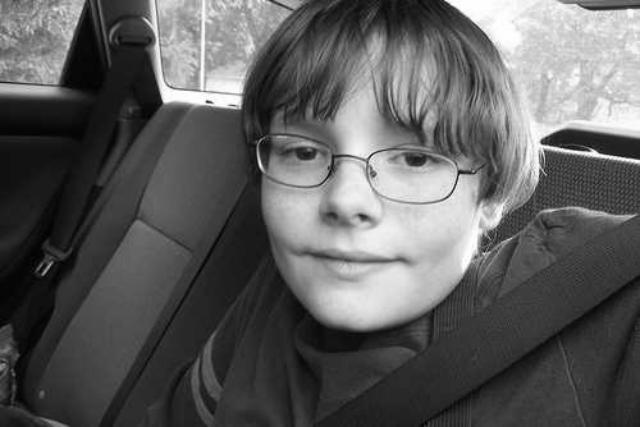SafeDriving: (374, 134, 454, 178), (272, 130, 336, 172)
Seatbelt: (310, 211, 640, 427)
